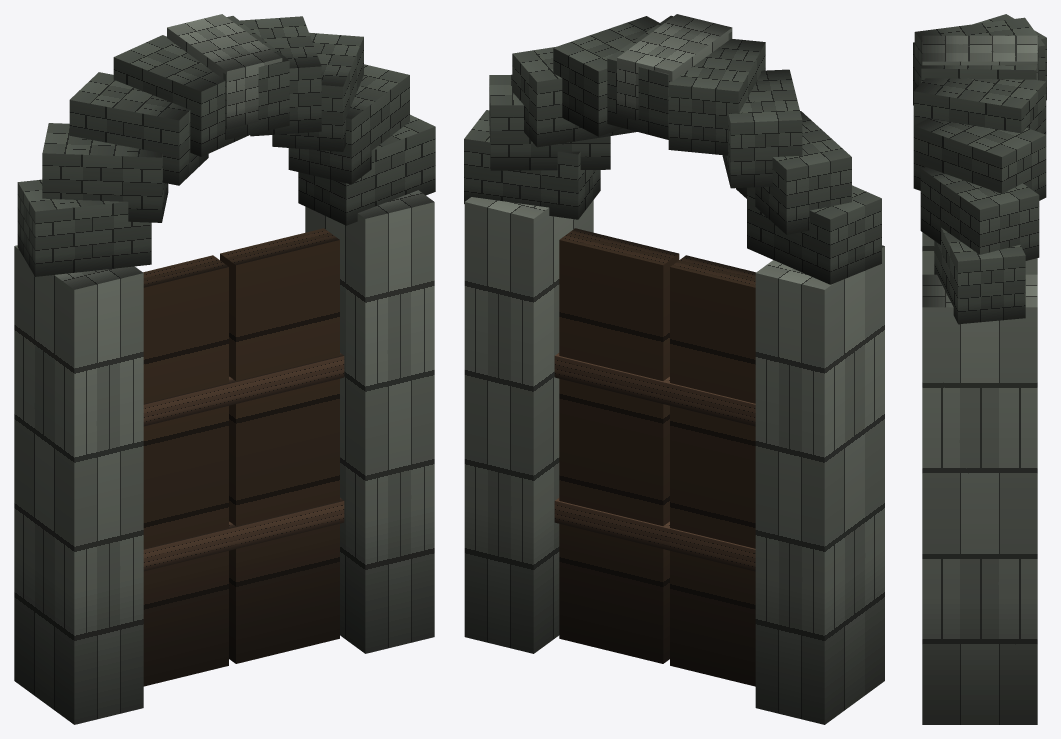
The model's file is gate_arch.gltf.
The picture shows the model from 3 angles, left to right: view 1: azimuth 30°, elevation 25°; view 2: azimuth 150°, elevation 25°; view 3: azimuth 270°, elevation 25°; orthographic projection. The views are drawn at different scales.
Visible parts, largest first — view 1: gate_arch; view 2: gate_arch; view 3: gate_arch.
Part boxes in pixels (x1,y1,x2,y2): gate_arch: (14, 14, 435, 724); gate_arch: (464, 14, 884, 724); gate_arch: (913, 14, 1046, 724).
Size of the model in its own units: 1.15 by 1.7 by 0.3485.
1 material, 1 textured.
